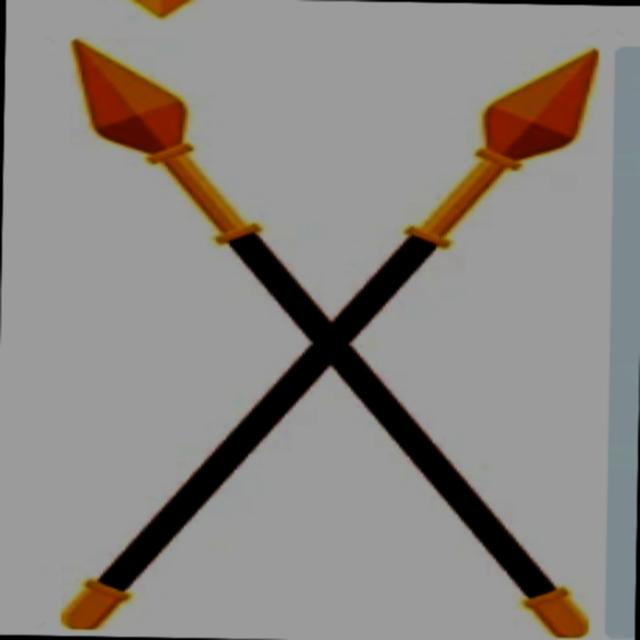spear: (10, 24, 618, 639)
